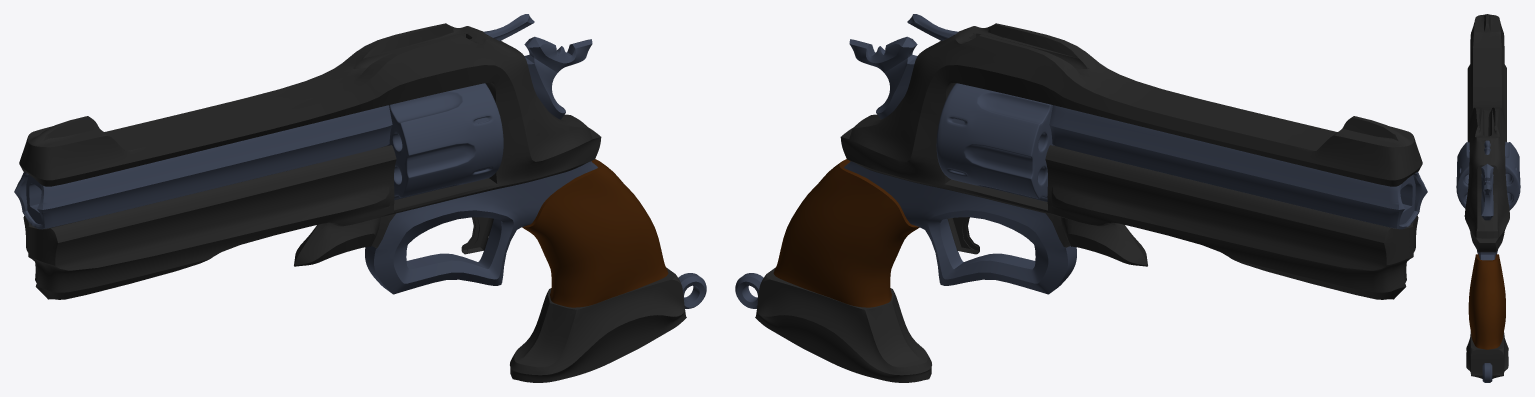
File: Unity Gun.fbx
The picture shows the model from 3 angles, left to right: view 1: azimuth 30°, elevation 25°; view 2: azimuth 150°, elevation 25°; view 3: azimuth 270°, elevation 25°; orthographic projection. The views are drawn at different scales.
Parts seen in each view (by area): view 1: Gun Base; view 2: Gun Base; view 3: Gun Base.
Boxes of the visible parts, left/top/right/bottom form: Gun Base: left=14, top=14, right=706, bottom=382; Gun Base: left=735, top=14, right=1427, bottom=382; Gun Base: left=1456, top=14, right=1520, bottom=382.
Size of the model in its own units: 365 by 193 by 52.39.
